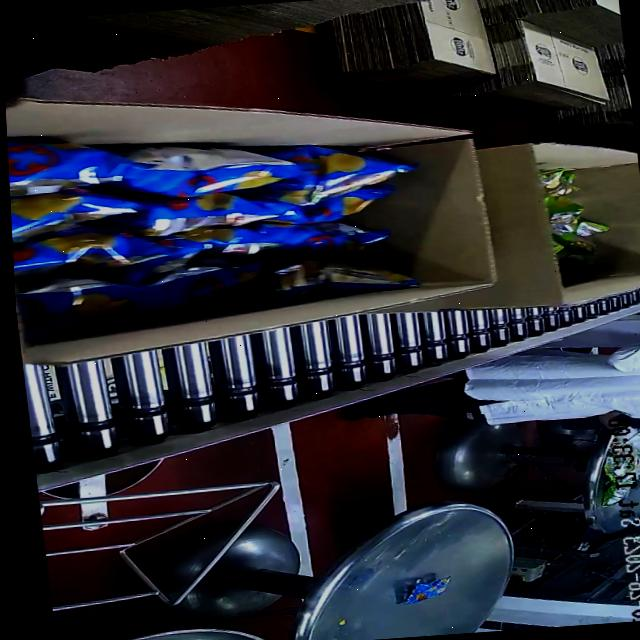PAPRIKA: (6, 120, 430, 328)
